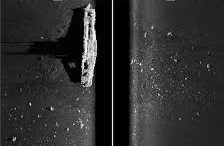ship: (81, 3, 99, 88)
